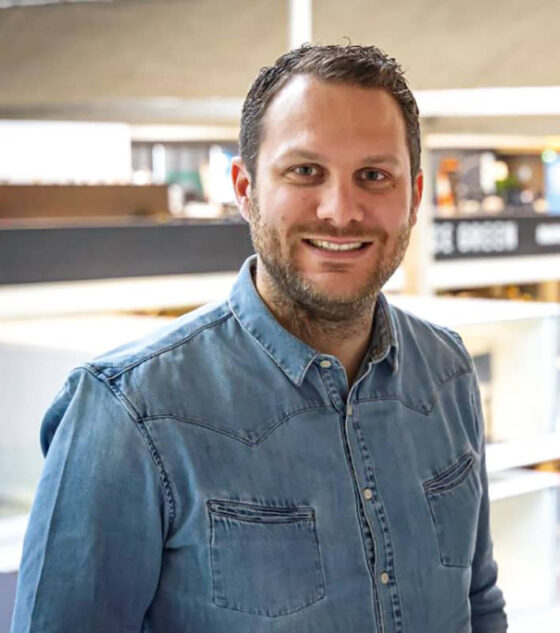without_mask: (252, 143, 394, 315)
